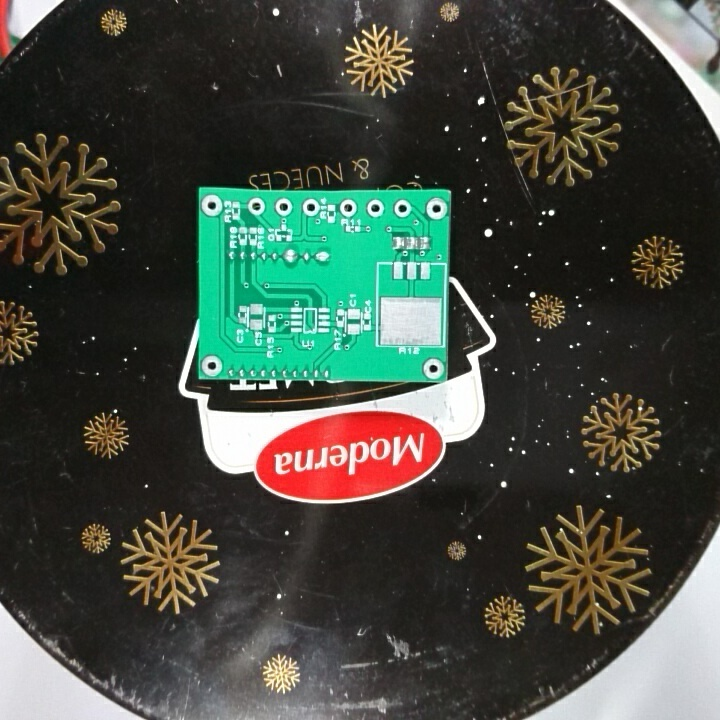F: (199, 352, 225, 378), (199, 192, 223, 220), (420, 355, 445, 380), (424, 197, 448, 222), (245, 196, 268, 218), (273, 195, 294, 218), (391, 198, 413, 219), (338, 198, 359, 220), (365, 198, 386, 219), (300, 198, 320, 218)
P: (281, 246, 301, 265), (312, 248, 333, 266)
